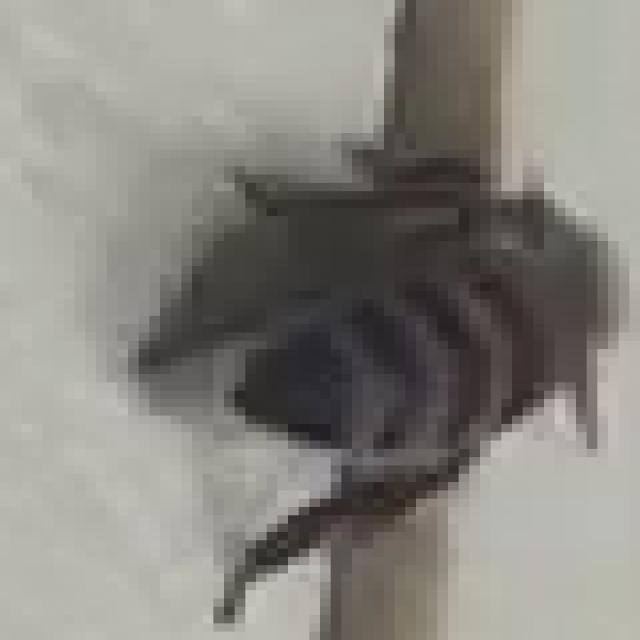honeybee: (106, 91, 640, 639)
